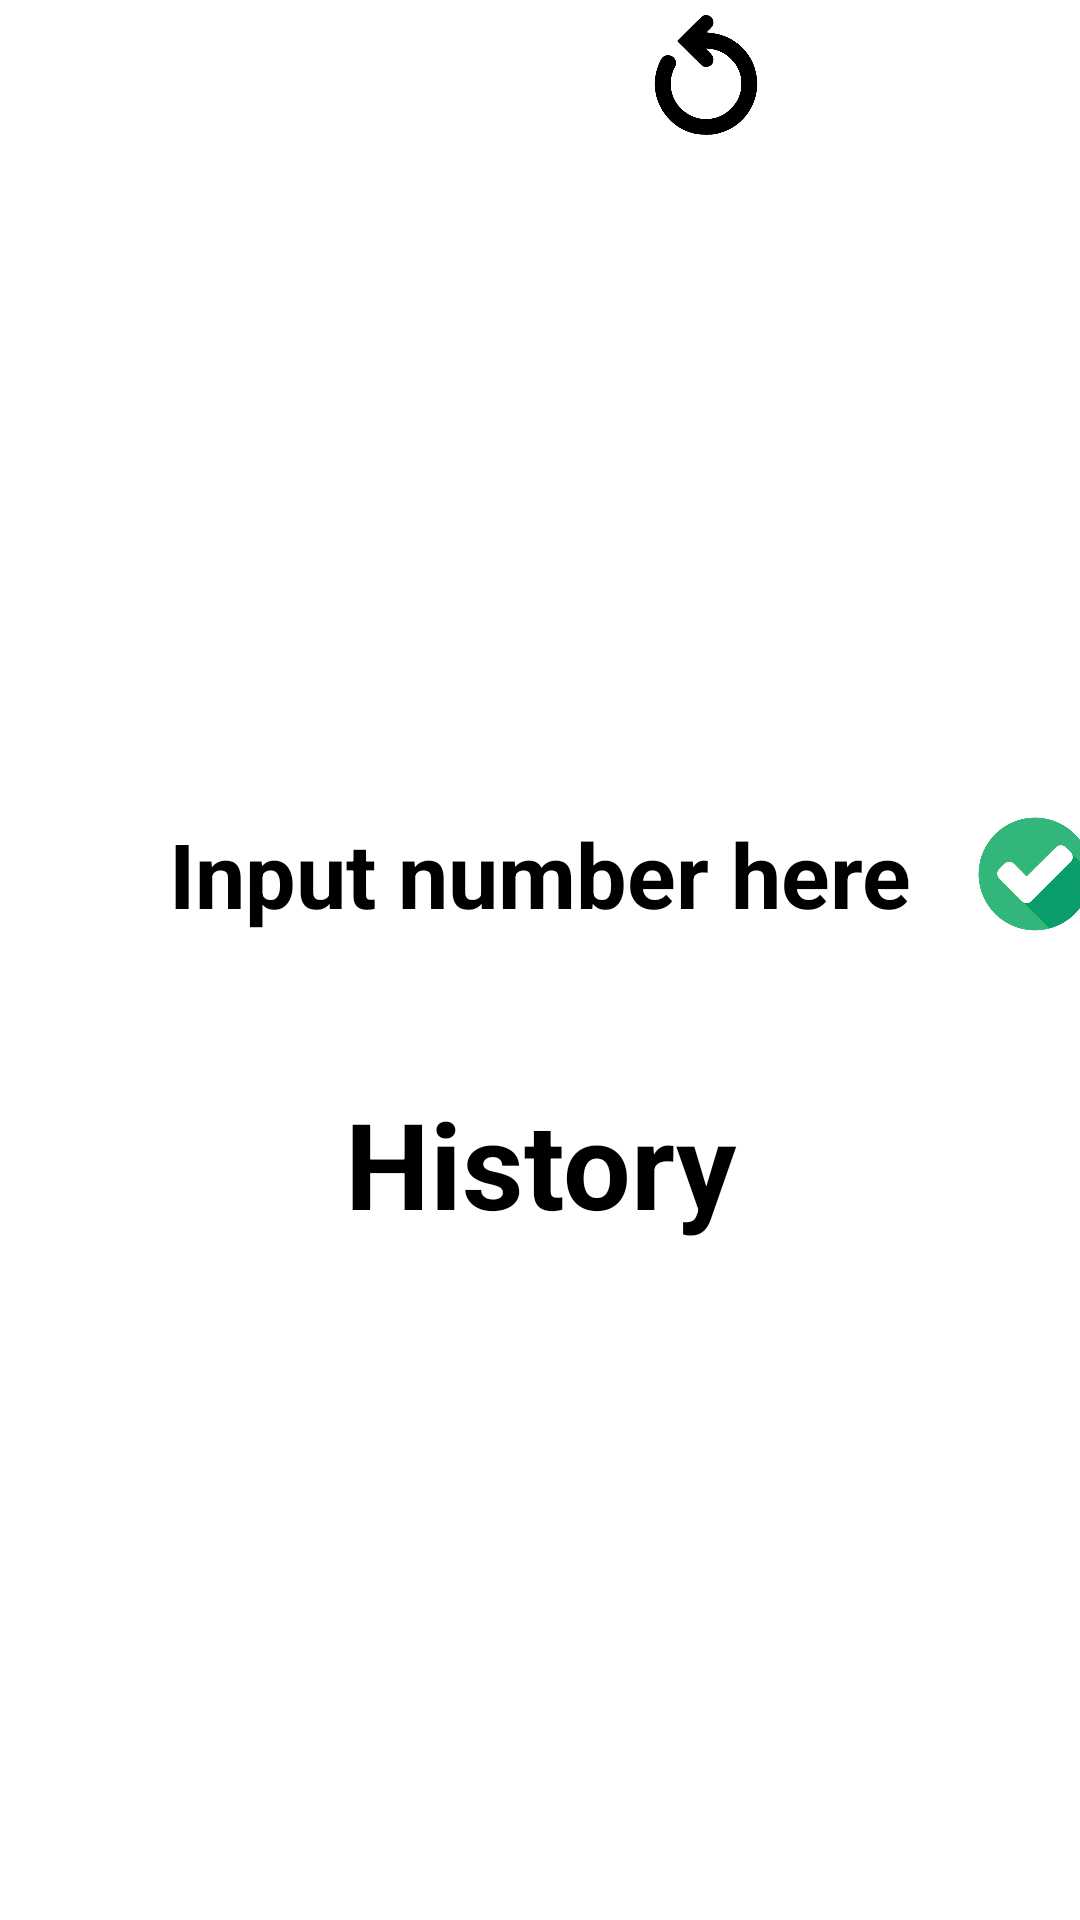

Point at icon controls on the screen. Image size 1080px×1920px, points as (x=x, y=y).
restart: (x=705, y=75)
